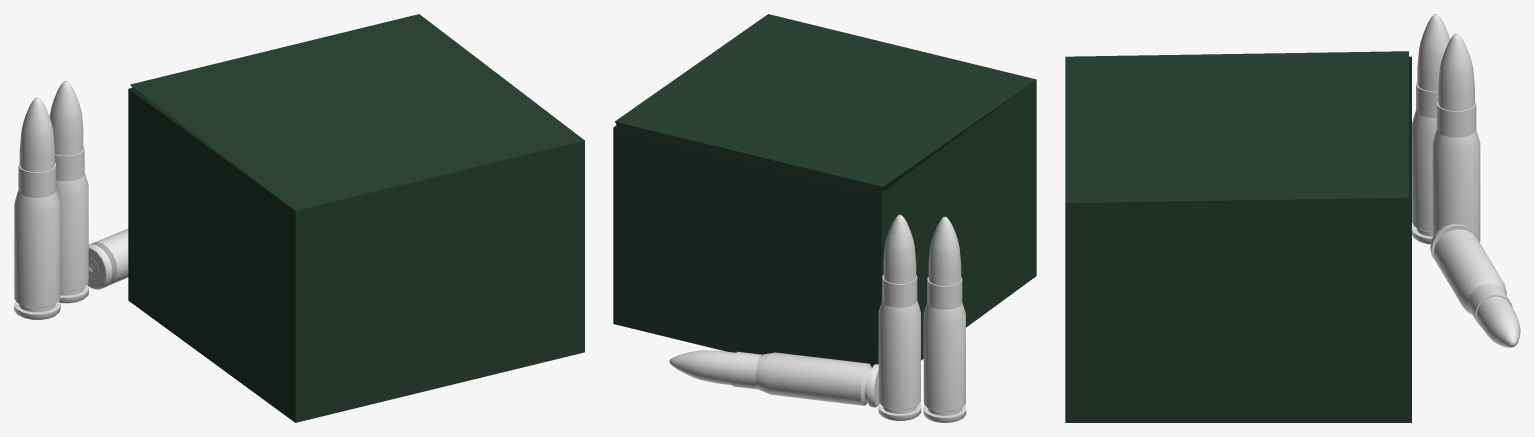
The model's file is ammoBox.fbx.
3 views of the same model, side by side, from view 1: azimuth 30°, elevation 25°; view 2: azimuth 150°, elevation 25°; view 3: azimuth 270°, elevation 25° (orthographic). The views are drawn at different scales.
Visible parts, largest first — view 1: Cube, Bullet.001, Bullet, Shell.001, Bullet.002, Shell; view 2: Cube, Bullet.002, Bullet, Bullet.001, Shell.001, Shell, Shell.002; view 3: Cube, Bullet, Bullet.002, Bullet.001, Shell, Shell.001, Shell.002.
Part boxes in pixels (<box>): Cube: <box>128,14,584,422</box>; Bullet.001: <box>14,162,60,319</box>; Bullet: <box>55,146,88,303</box>; Shell.001: <box>19,97,54,172</box>; Bullet.002: <box>87,228,128,289</box>; Shell: <box>49,81,83,155</box>; Cube: <box>613,14,1036,367</box>; Bullet.002: <box>731,351,879,407</box>; Bullet: <box>878,275,921,420</box>; Bullet.001: <box>923,277,966,422</box>; Shell.001: <box>928,216,961,285</box>; Shell: <box>883,214,916,283</box>; Shell.002: <box>669,350,735,385</box>; Cube: <box>1065,51,1411,422</box>; Bullet: <box>1432,101,1480,242</box>; Bullet.002: <box>1430,223,1512,327</box>; Bullet.001: <box>1412,82,1437,244</box>; Shell: <box>1438,33,1474,111</box>; Shell.001: <box>1417,14,1449,91</box>; Shell.002: <box>1476,296,1520,347</box>.
Bounding box in the file's own units: 33.62 × 17.93 × 32.82.
